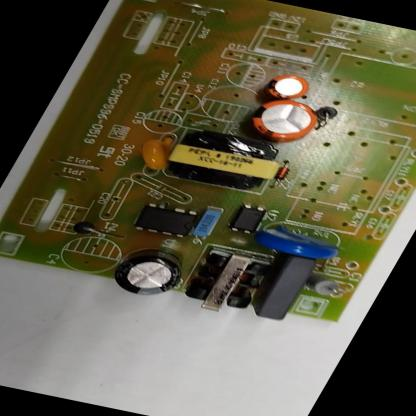Cap1: (244, 96, 323, 145)
Cap2: (262, 71, 313, 103)
Cap3: (108, 242, 193, 300)
MOSFET: (132, 201, 200, 238)
Mov: (252, 223, 346, 263)
Resistor: (301, 272, 348, 298)
Transformer: (162, 125, 291, 192), (174, 244, 279, 318)
